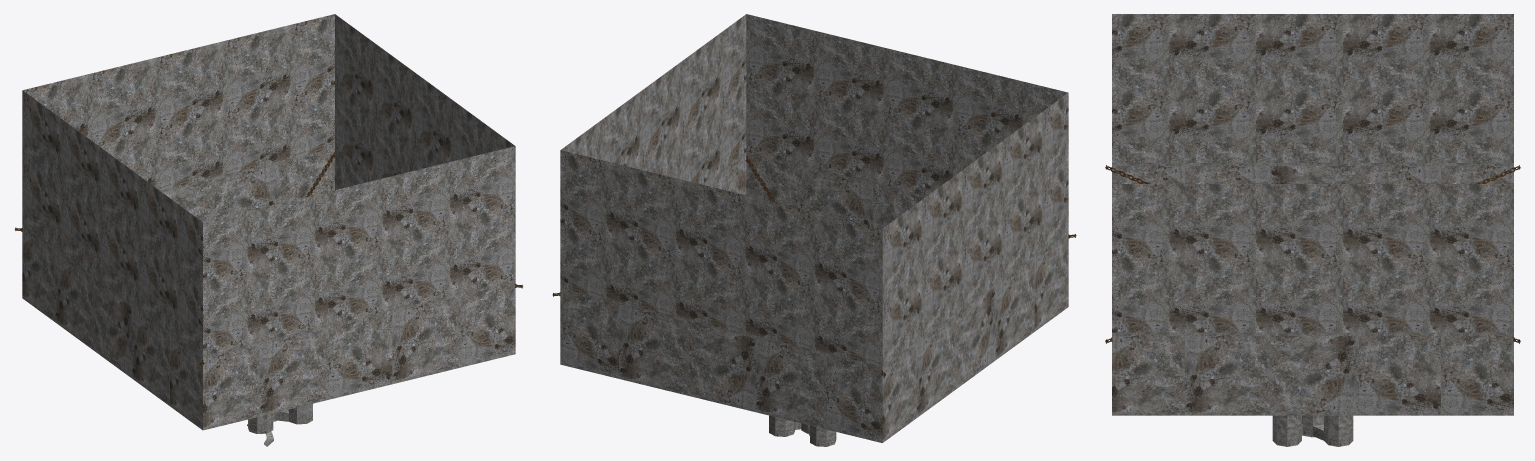
Rendered from Room5.gltf.
3 views of the same model, side by side, from view 1: azimuth 30°, elevation 25°; view 2: azimuth 150°, elevation 25°; view 3: azimuth 270°, elevation 25° (orthographic). The views are drawn at different scales.
Visible parts, largest first — view 1: Cube; view 2: Cube; view 3: Cube, Chains.
Boxes of the visible parts, bbox=[...] form: Cube: bbox=[22, 14, 515, 433]; Cube: bbox=[560, 14, 1068, 446]; Cube: bbox=[1112, 14, 1513, 446]; Chains: bbox=[1105, 165, 1520, 343].
Bounding box in the file's own units: 114 × 104 × 114.
8 materials, 8 textured.
